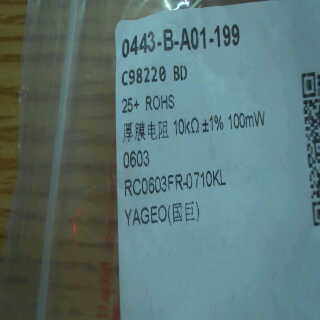10kR: (169, 114, 203, 141)
